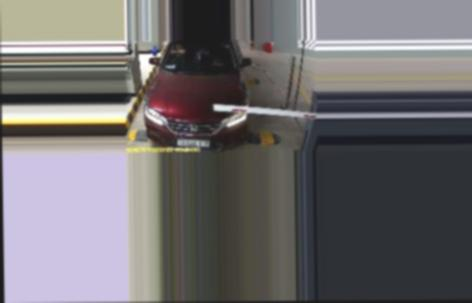License_Plate: (175, 137, 211, 148)
